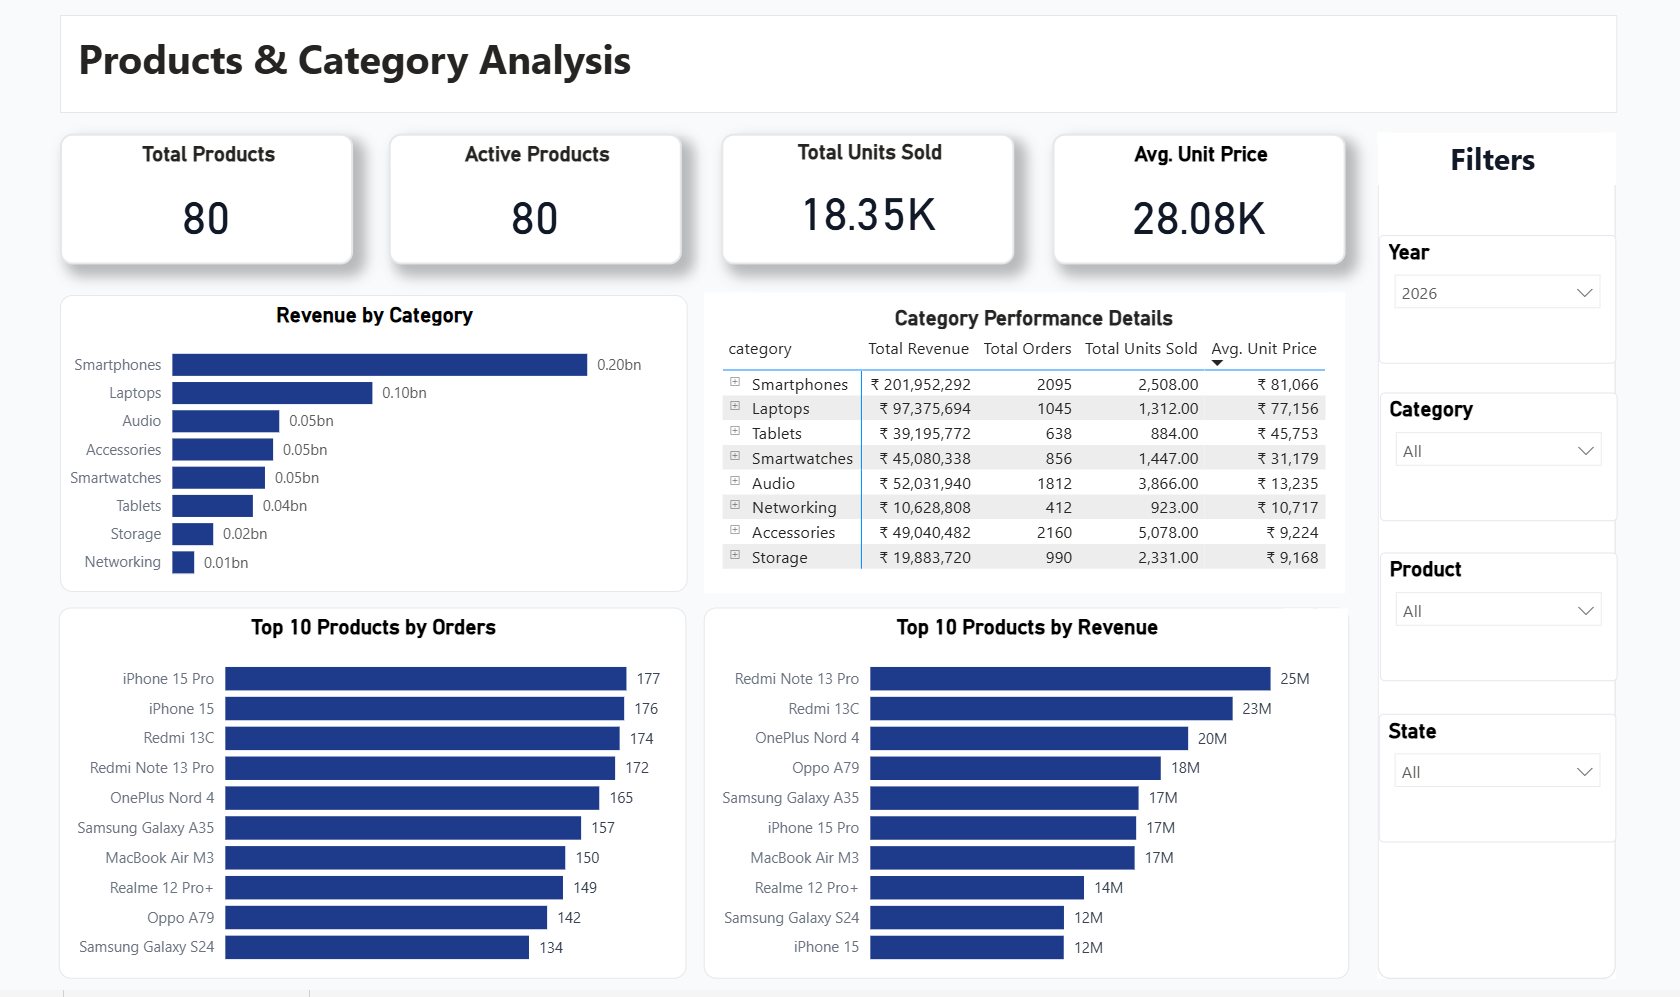

The page's visual inventory and layout, read from the dashboard file:
{"tool":"powerbi","page":{"name":"Product analysis","canvas":[1300,800],"ordinal":1},"visuals":[{"type":"textbox","box":[11.7,11.7,1258.7,79.1],"z":0},{"type":"shape","box":[1077,107,192.6,684],"z":0,"group":"g2"},{"type":"group","id":"g1","title":"Group 1","box":[11.7,108.4,1038.9,105.5],"z":1000},{"type":"card","title":"Total Products","fields":{"Values":["CountNonNull(products.product_id)"]},"box":[11.7,108.4,237.2,105.5],"z":1000,"group":"g1"},{"type":"card","title":"Active Products","fields":{"Values":["Sum(vw_kpi_summary.products_sold)"]},"box":[277.4,108.4,237.2,105.5],"z":2000,"group":"g1"},{"type":"clusteredBarChart","title":"Revenue by Category","fields":{"Category":["vw_product_performance.category"],"Y":["Sum(vw_product_performance.total_revenue)"]},"box":[11.7,238.8,507,240.3],"z":2000},{"type":"card","title":"Total Units Sold","fields":{"Values":["Sum(vw_product_performance.total_units_sold)"]},"box":[546.2,108.4,237.2,105.5],"z":3000,"group":"g1"},{"type":"clusteredBarChart","title":"Top 10 Products by Revenue","fields":{"Category":["vw_product_performance.product_name"],"Y":["Sum(vw_product_performance.total_revenue)"]},"box":[531.9,490.9,521.6,300],"z":3000},{"type":"card","title":"Avg. Unit Price","fields":{"Values":["vw_sales_enriched.Avg Unit Price"]},"box":[813.4,108.4,237.2,105.5],"z":4000,"group":"g1"},{"type":"clusteredBarChart","title":"Top 10 Products by Orders","fields":{"Category":["vw_product_performance.product_name"],"Y":["Sum(vw_product_performance.total_orders)"]},"box":[11.1,490.7,507.3,299.9],"z":4000},{"type":"textbox","box":[1077,107,192.6,42.5],"z":5000,"group":"g2"},{"type":"pivotTable","title":"Category Performance Details","fields":{"Rows":["vw_product_performance.category","vw_product_performance.product_name"],"Values":["Sum(vw_product_performance.total_revenue)","Sum(vw_product_performance.total_orders)","Sum(vw_product_performance.total_units_sold)","Avg(vw_product_performance.average_unit_price)"]},"box":[531.9,235.9,518.7,243.2],"z":5000},{"type":"group","id":"g2","title":"Group 2","box":[1077,107,193.4,684.3],"z":6000},{"type":"slicer","title":"Year","fields":{"Values":["vw_monthly_sales.sale_year"]},"box":[1077.6,189.8,192,104.2],"z":6000,"group":"g2"},{"type":"slicer","title":"State ","fields":{"Values":["vw_sales_enriched.state"]},"box":[1077.6,576.5,192,104.2],"z":7000,"group":"g2"},{"type":"slicer","title":"Category","fields":{"Values":["vw_sales_enriched.category"]},"box":[1079.1,316.8,192,104.2],"z":8000,"group":"g2"},{"type":"slicer","title":"Product ","fields":{"Values":["vw_sales_enriched.product_name"]},"box":[1079.1,446.7,192,104.2],"z":9000,"group":"g2"}]}

Visuals, with their boxes on the page's 1300x800 design canvas (x1, y1, x2, y2). These are canvas units, not pixel positions in the 1680x997 screenshot, which may show the page scaled, cropped or inside an application window:
textbox: 12,12,1270,91
shape: 1077,107,1270,791
"Group 1" group: 12,108,1051,214
"Total Products" card: 12,108,249,214
"Active Products" card: 277,108,515,214
"Revenue by Category" clusteredBarChart: 12,239,519,479
"Total Units Sold" card: 546,108,783,214
"Top 10 Products by Revenue" clusteredBarChart: 532,491,1054,791
"Avg. Unit Price" card: 813,108,1051,214
"Top 10 Products by Orders" clusteredBarChart: 11,491,518,791
textbox: 1077,107,1270,150
"Category Performance Details" pivotTable: 532,236,1051,479
"Group 2" group: 1077,107,1270,791
"Year" slicer: 1078,190,1270,294
"State " slicer: 1078,576,1270,681
"Category" slicer: 1079,317,1271,421
"Product " slicer: 1079,447,1271,551
